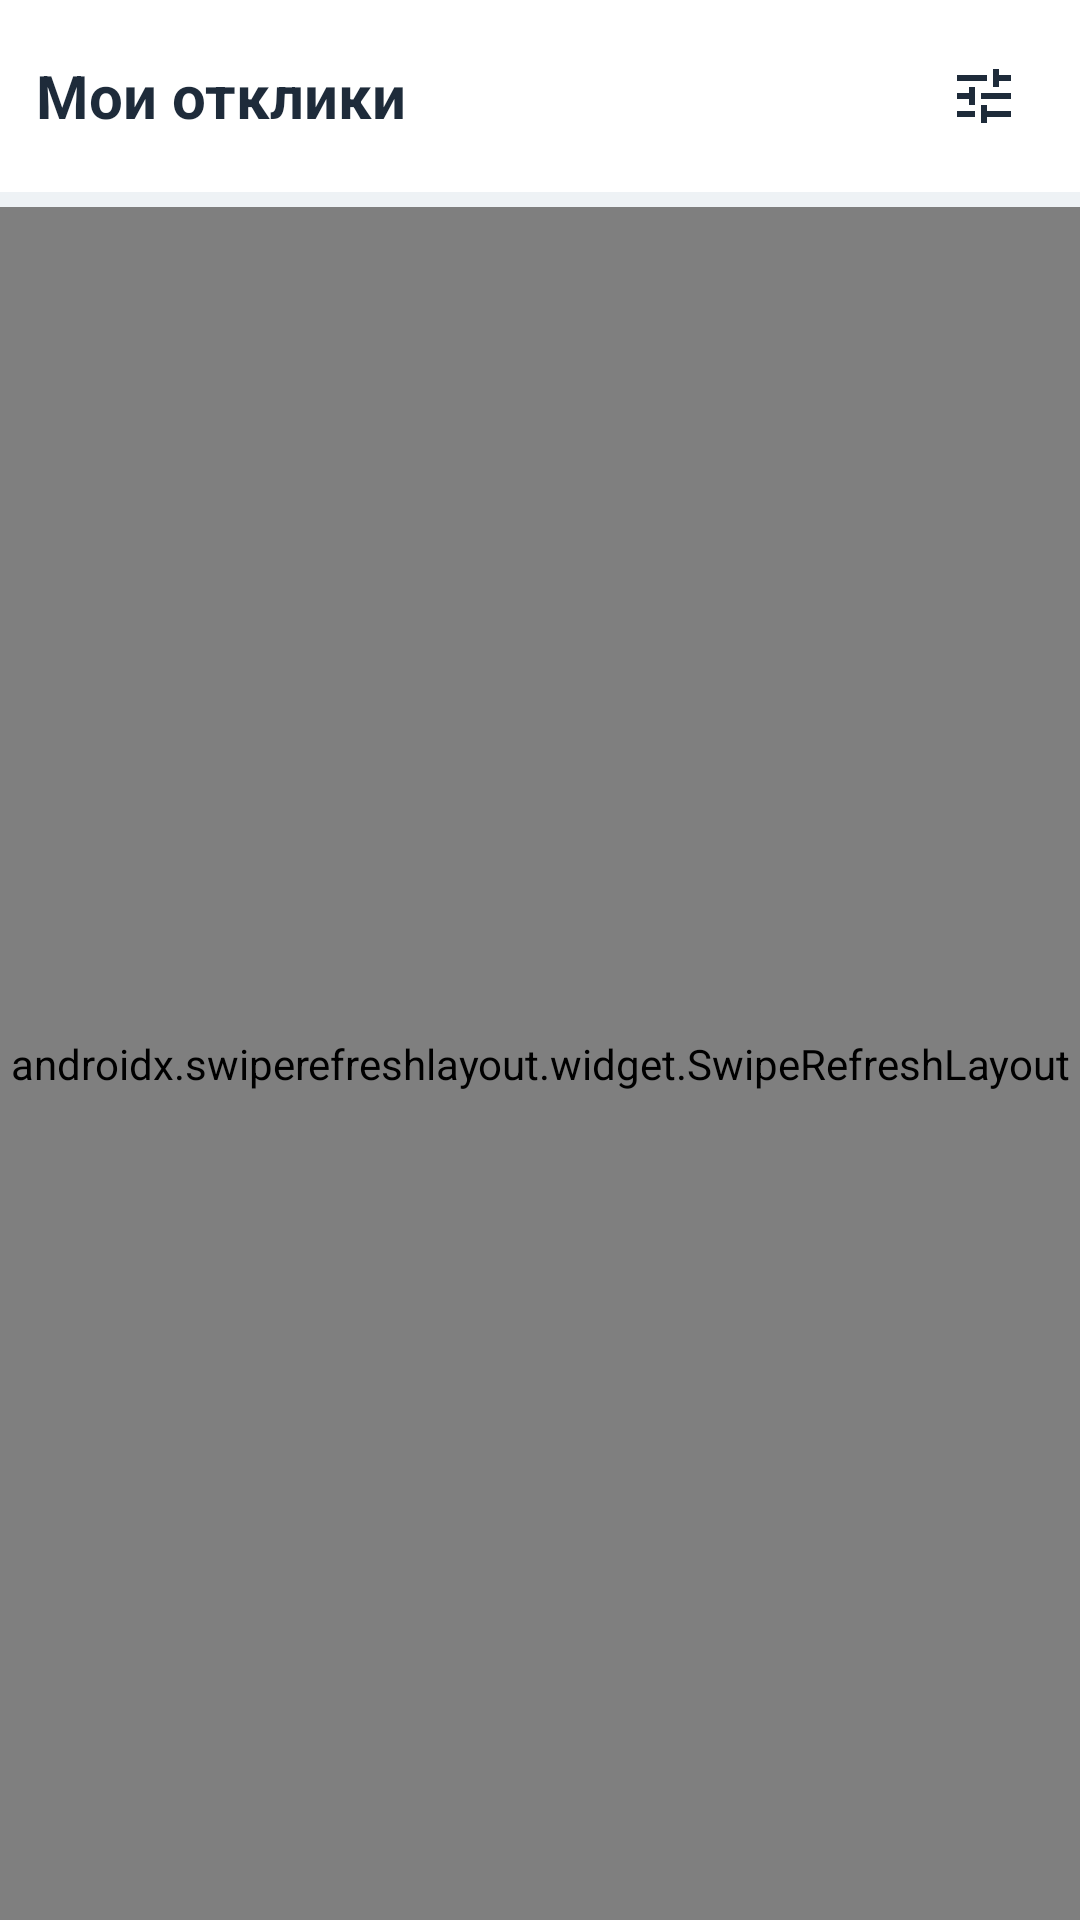

Point at icon controls on the screen. Image size 1080w x 1920h, points as (x,y).
Фильтр: (984,96)
